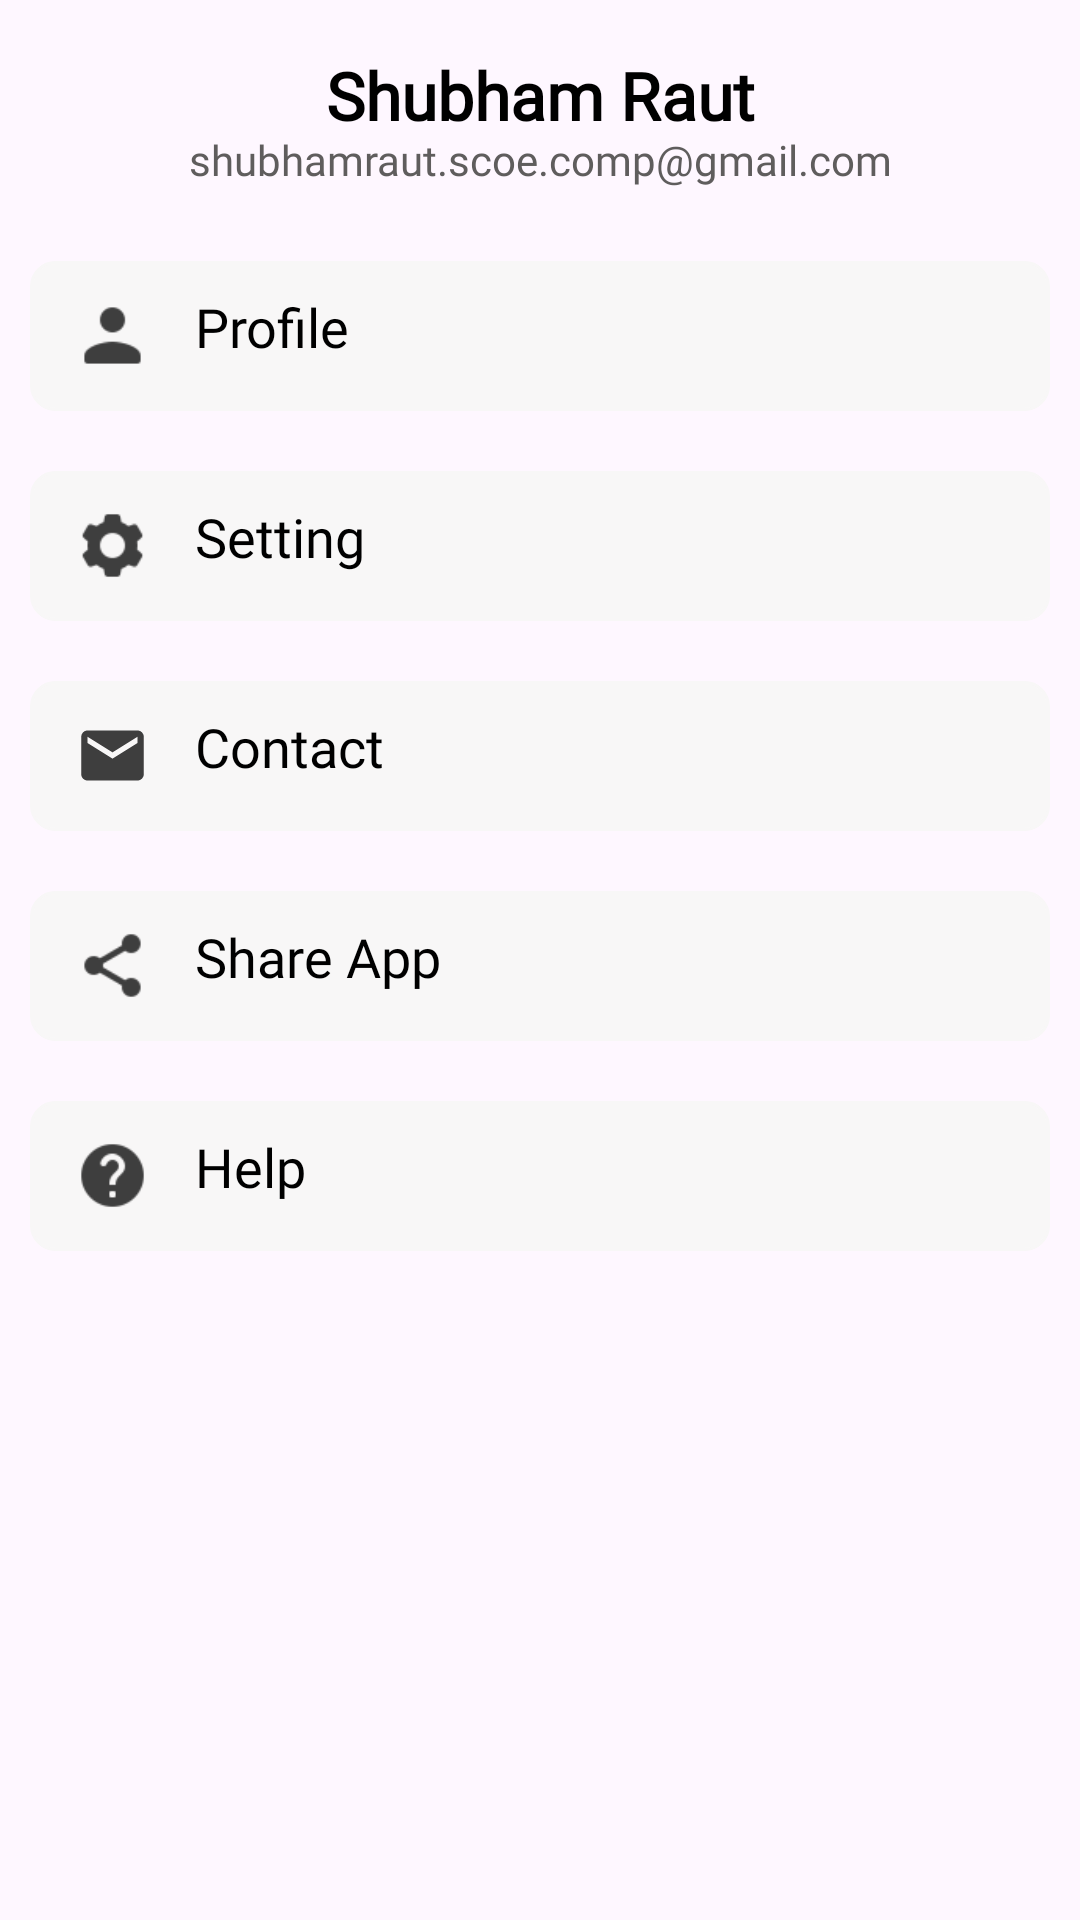

Icon bounding boxes for this 1080×1920 phone screenshot, format (x1, y1, x2, y2):
mail: (81, 730, 144, 781)
